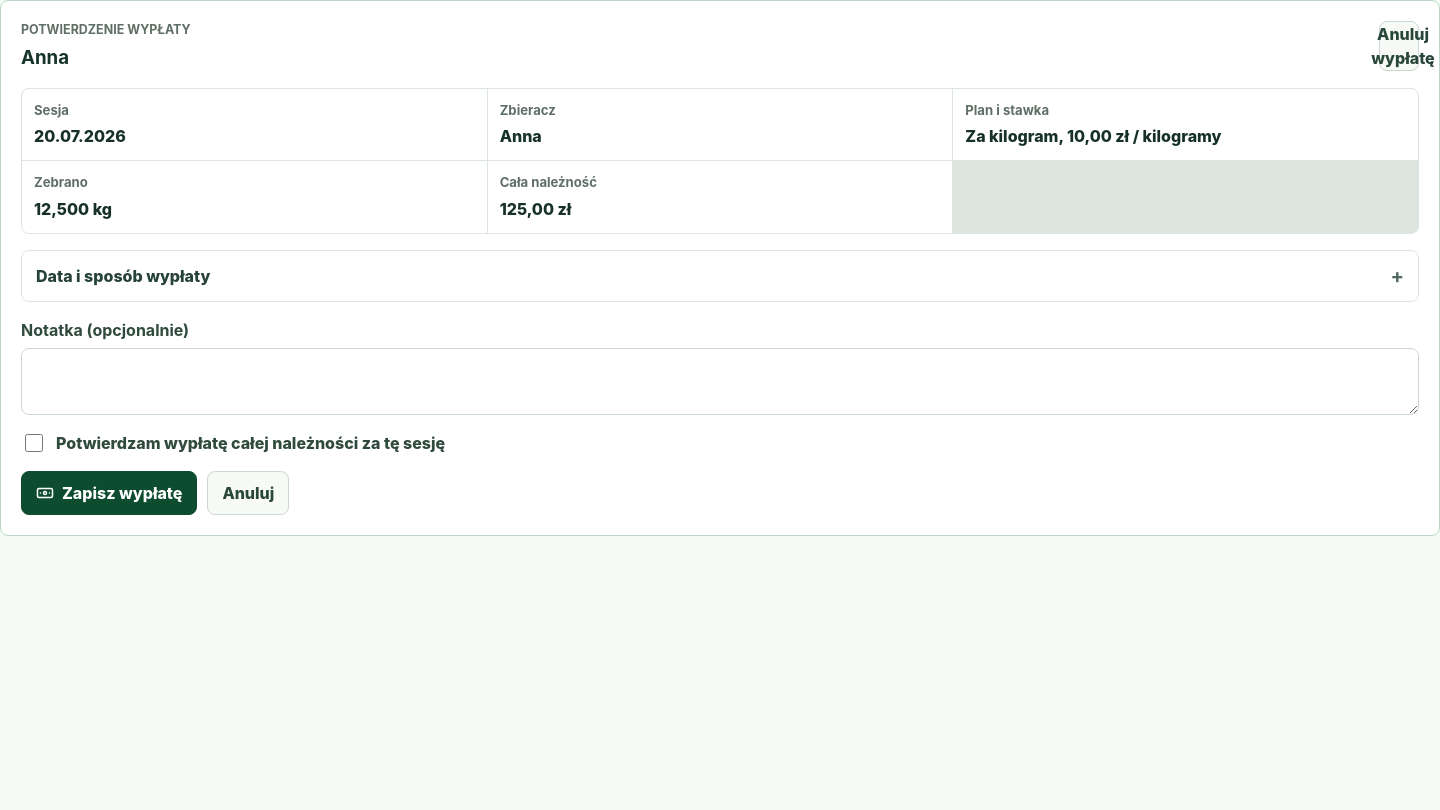
PaymentConfirmationForm › does not show success when Firestore cannot confirm the transaction
The width and height of the screenshot is (1440, 810).
What coordinates should you click on to do the following:
click the checkbox labelled "Potwierdzam wypłatę całej należności za tę sesję"
I would click on:
 (34, 443)
Its box is [25,434,43,452].
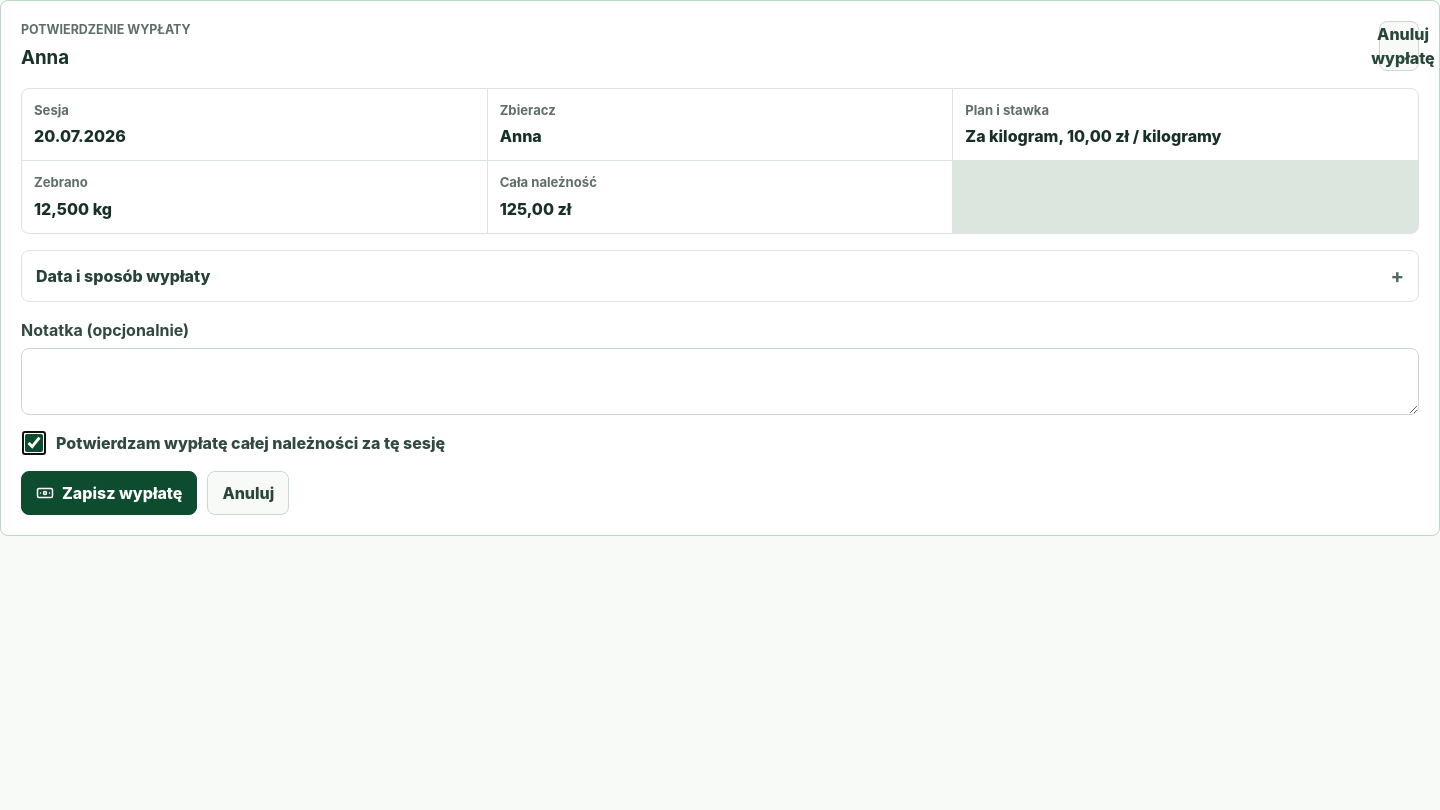
What coordinates should you click on to do the following:
click the button "Zapisz wypłatę"
I would click on:
 (109, 493)
Its box is [21,471,197,515].
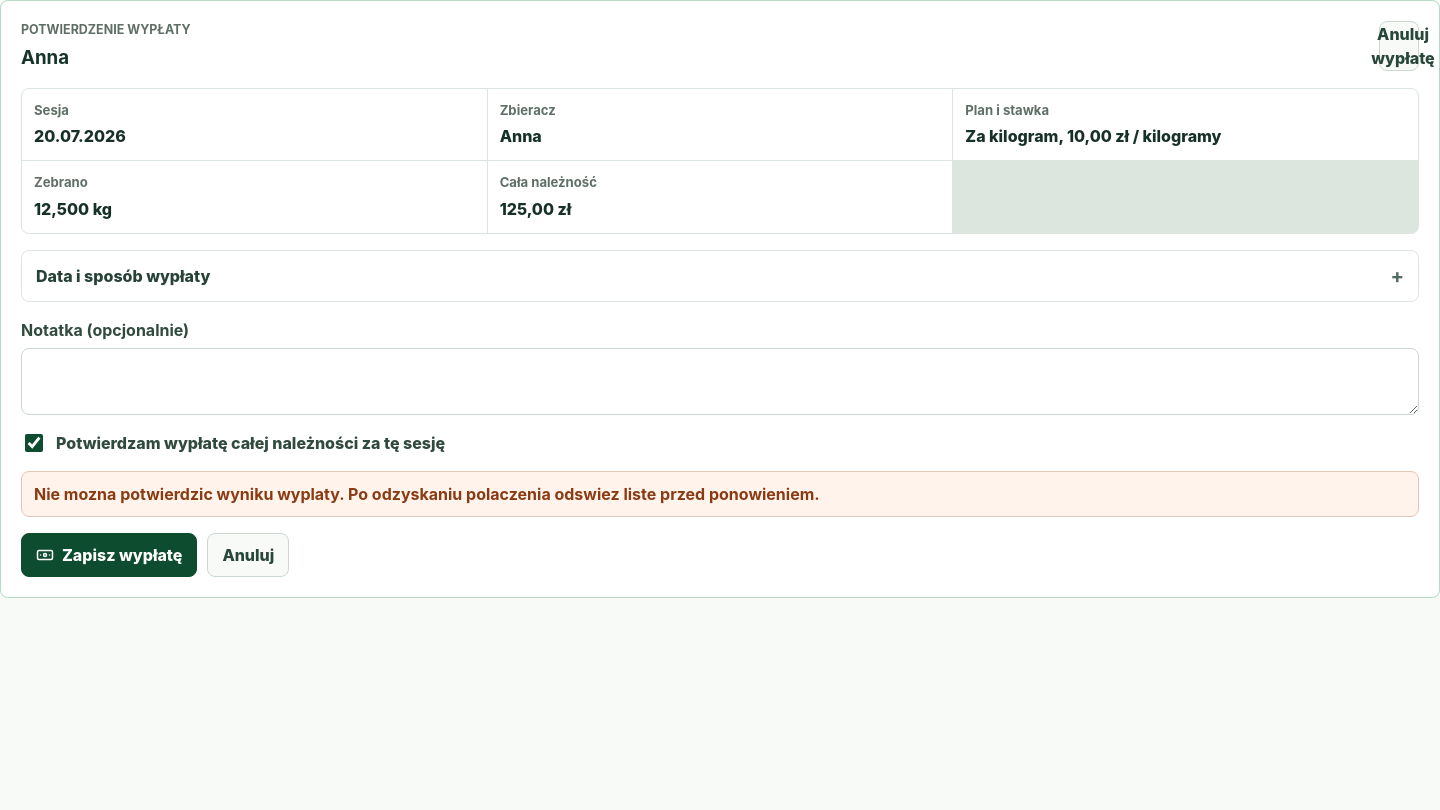
Expected: the button "Zapisz wypłatę" is enabled, [21,533,197,577]
Expected: the text "Nie mozna potwierdzic wyniku wyplaty" is shown, [34,484,820,504]
